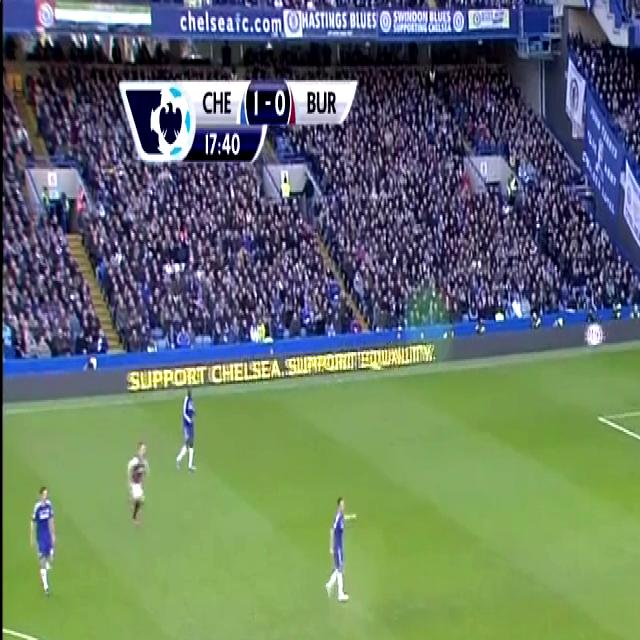soccer-player: (322, 478, 363, 608), (28, 480, 60, 599), (175, 373, 208, 486), (124, 434, 154, 524)
